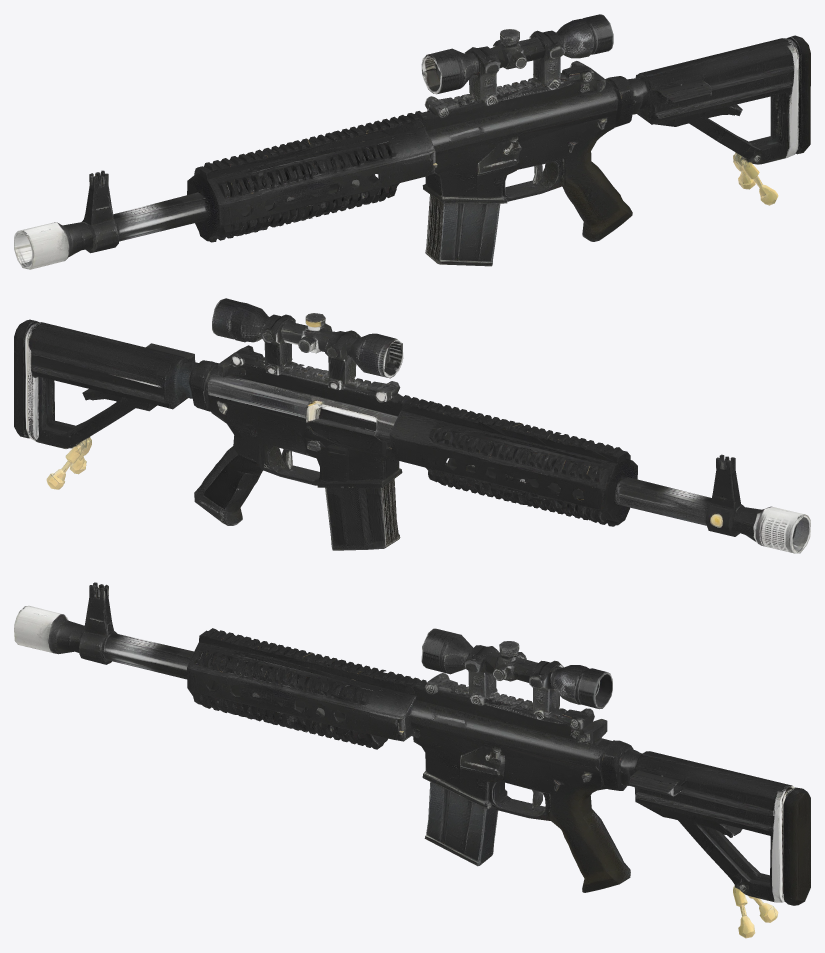
File: titanbreaker.glb
3 renders of one model, top to bottom at view 1: azimuth 30°, elevation 25°; view 2: azimuth 150°, elevation 25°; view 3: azimuth 330°, elevation 25°, orthographic.
Size of the model in its own units: 1.9 by 0.5224 by 0.1679.
1 material, 1 textured.
